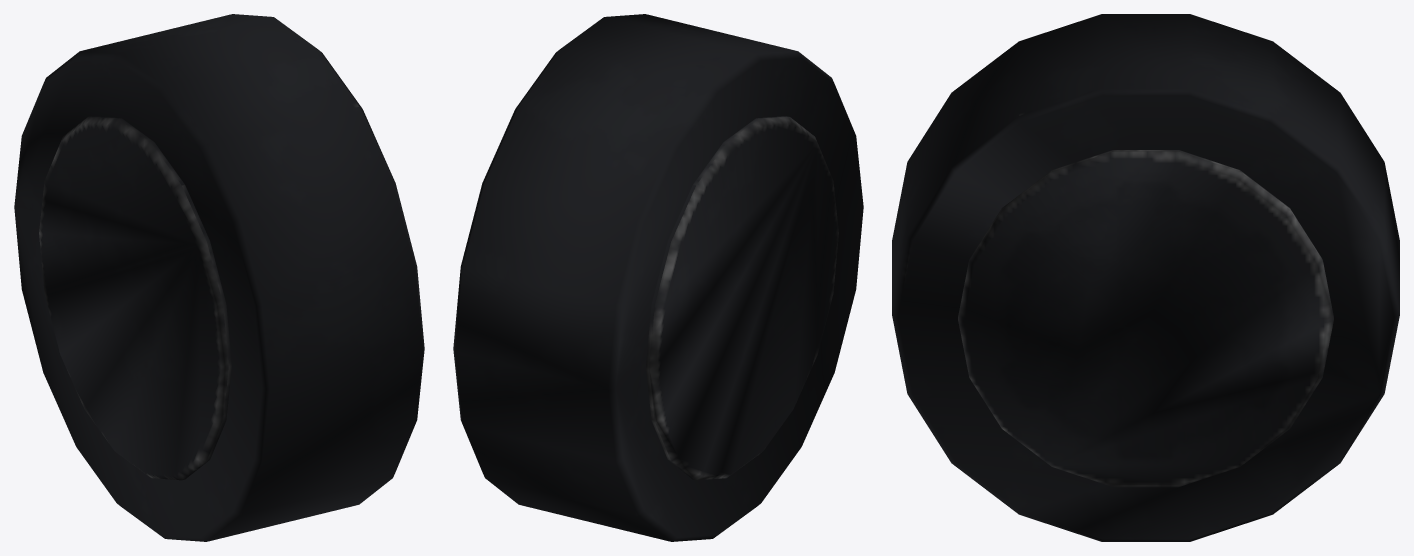
The model's file is Patrulla_Rueda.fbx.
The picture shows the model from 3 angles, left to right: view 1: azimuth 30°, elevation 25°; view 2: azimuth 150°, elevation 25°; view 3: azimuth 270°, elevation 25°; orthographic projection.
Parts seen in each view (by area): view 1: Patrulla_Rueda; view 2: Patrulla_Rueda; view 3: Patrulla_Rueda.
Boxes of the visible parts, x1=… form: Patrulla_Rueda: x1=14, y1=14, x2=424, y2=541; Patrulla_Rueda: x1=453, y1=14, x2=863, y2=541; Patrulla_Rueda: x1=892, y1=14, x2=1399, y2=541.
Size of the model in its own units: 1.1 by 2.66 by 2.7.
